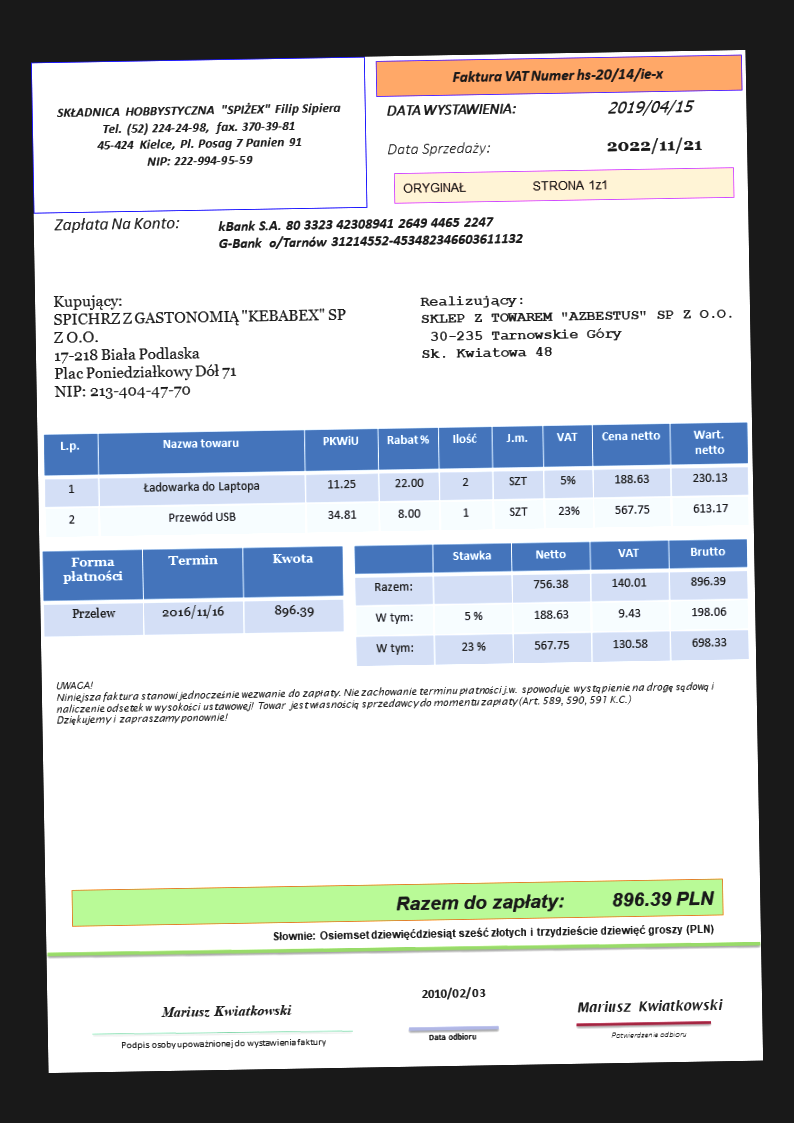Table: (41, 420, 752, 541), (353, 536, 749, 667), (41, 544, 344, 638)
TextBox: (52, 665, 719, 728), (48, 285, 353, 401), (416, 287, 734, 364), (55, 98, 343, 170), (270, 918, 719, 947), (215, 211, 526, 251), (393, 884, 718, 917), (450, 64, 664, 87), (117, 1032, 329, 1055), (400, 175, 611, 197), (575, 995, 728, 1018), (158, 999, 294, 1022), (49, 213, 182, 234), (384, 98, 518, 118), (384, 137, 492, 160), (603, 135, 703, 159), (604, 96, 696, 117), (418, 983, 487, 1004), (609, 1026, 689, 1044), (425, 1029, 479, 1043)
